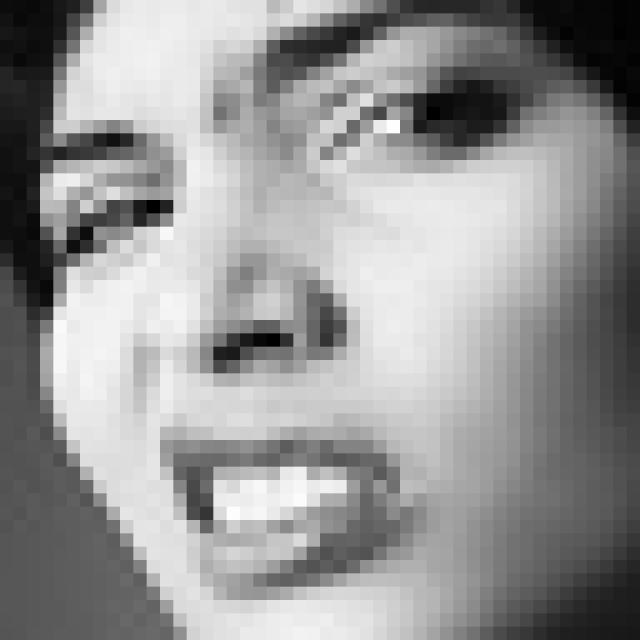disgust: (31, 0, 528, 594)
